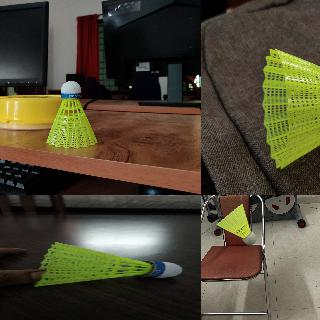shuttlecock: (263, 48, 319, 169), (34, 242, 180, 286), (45, 80, 97, 148), (216, 204, 256, 244)
